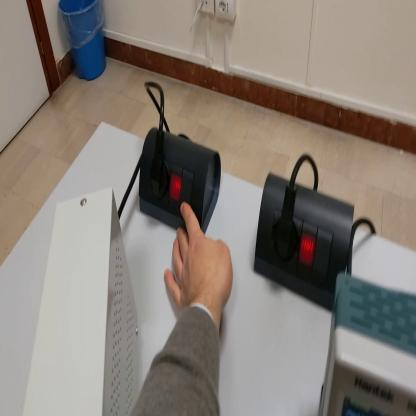hand: (168, 199, 233, 318)
oscilloscope: (321, 271, 416, 416)
power supply: (20, 188, 141, 416)
socket: (253, 167, 356, 317), (140, 127, 223, 242)
